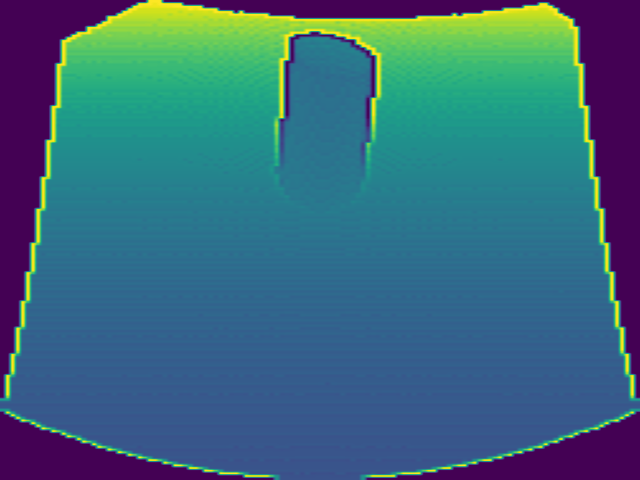cylinder: (272, 30, 379, 206)
